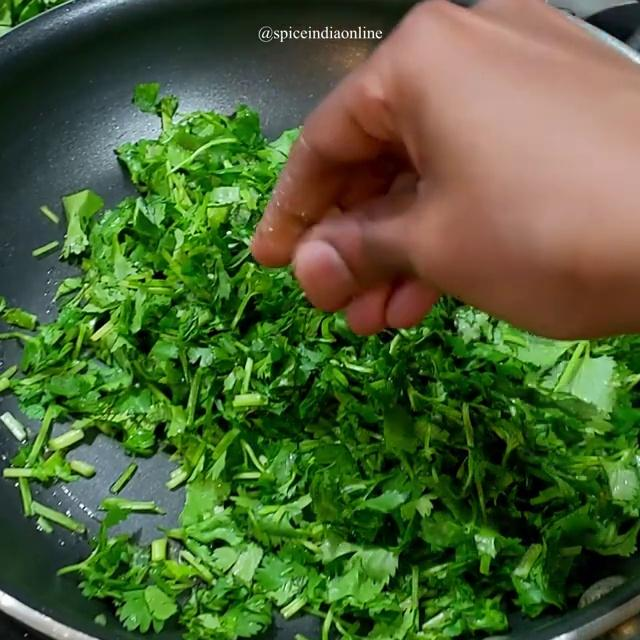cilantro: (159, 364, 602, 604)
